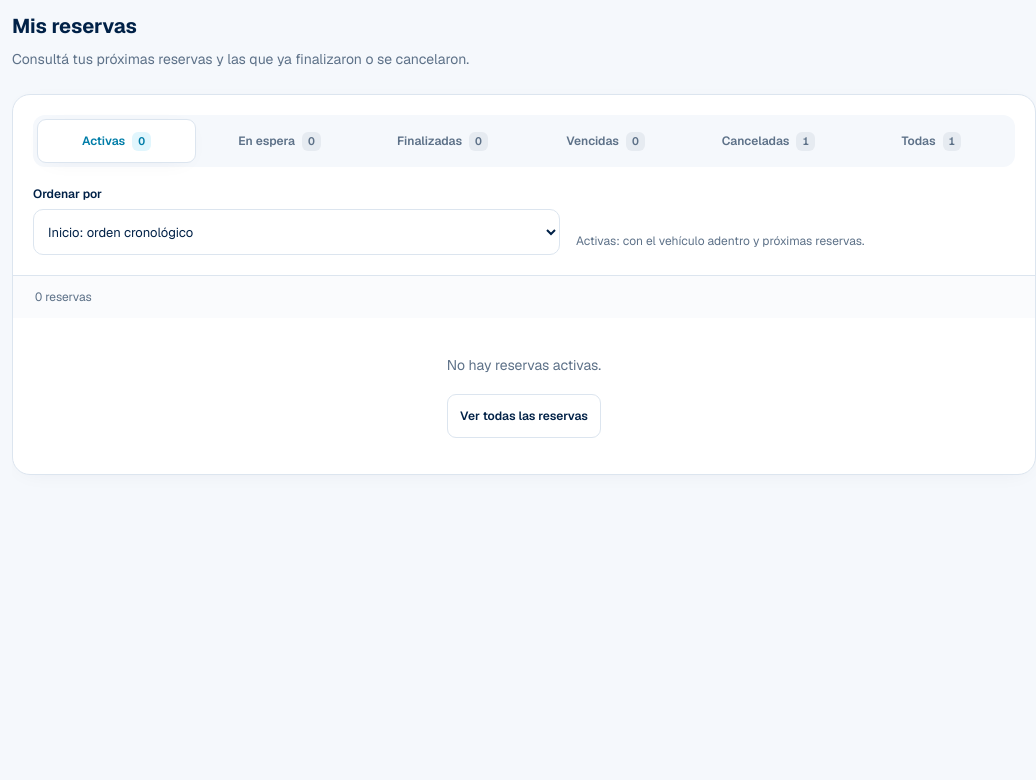
Test case: ReservasListado en modo usuario › conserva el mensaje de cancelación USUARIO al filtrar
Expected: the text "No hay reservas activas." is shown, [447,354,601,378]
Click the button "Canceladas 1" at coordinates (768, 141), box [689,119,848,163]
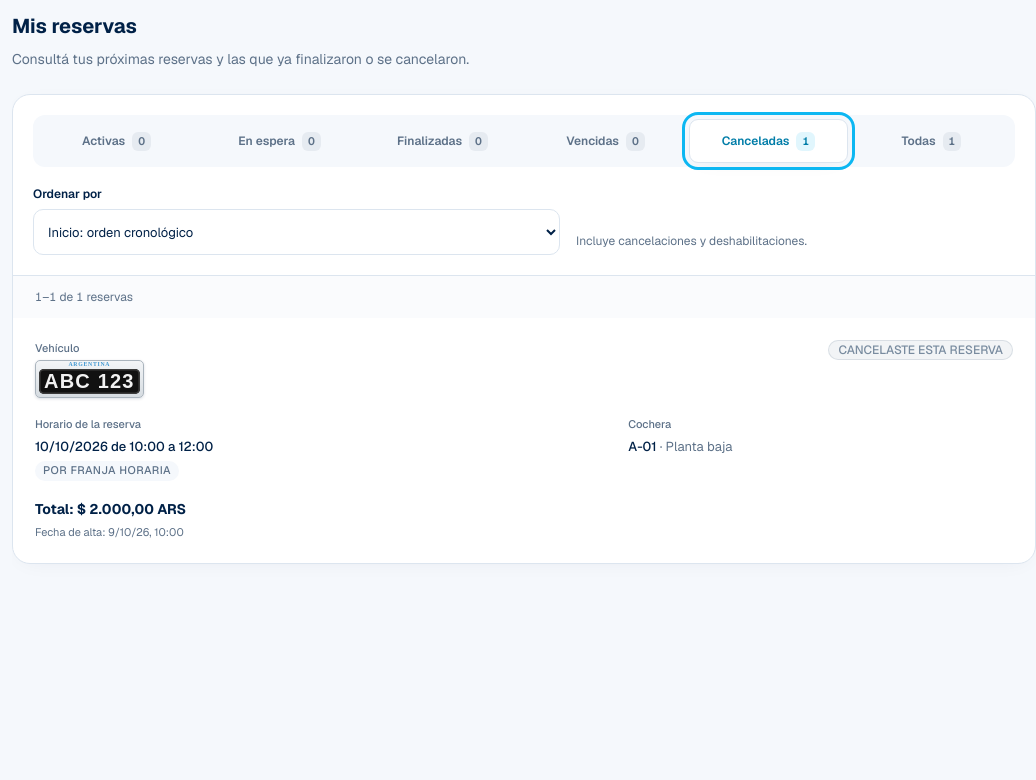
Expected: the text "CANCELASTE ESTA RESERVA" is shown, [828,340,1013,360]
